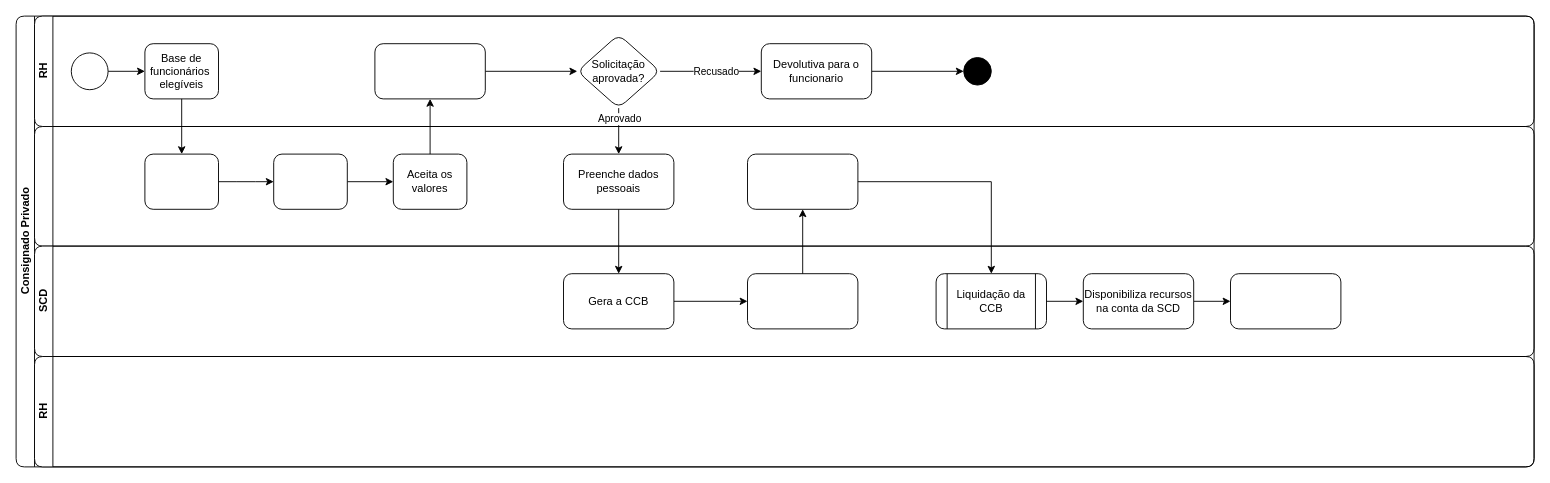
Some shapes in this 1550 by 483 pixel diagram are drawn without their labels. Each missing label, with the box of its shape:
Acessa a plataforma: (144, 153, 218, 209)
Analisa solicitação: (374, 43, 485, 99)
Assina proposta: (747, 153, 858, 209)
Funcionário: (34, 126, 1534, 246)
Notifica o Cliente via Whatsapp: (747, 273, 858, 329)
Simula o consignado: (273, 153, 347, 209)
